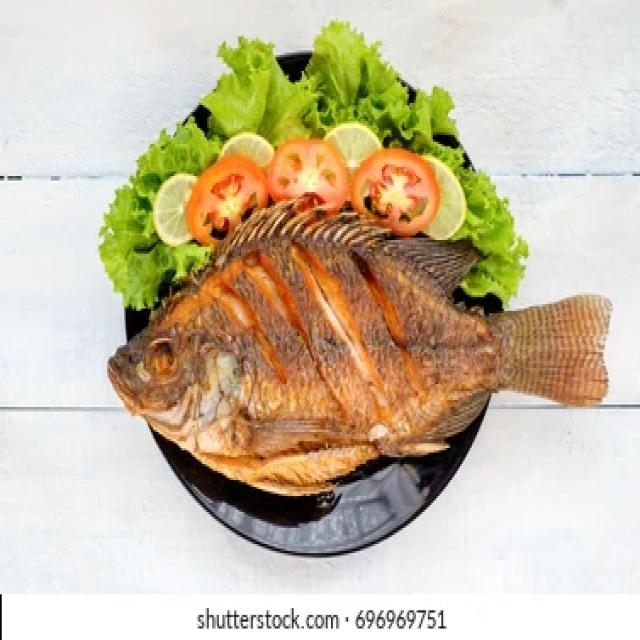Peixe: (105, 192, 613, 498)
